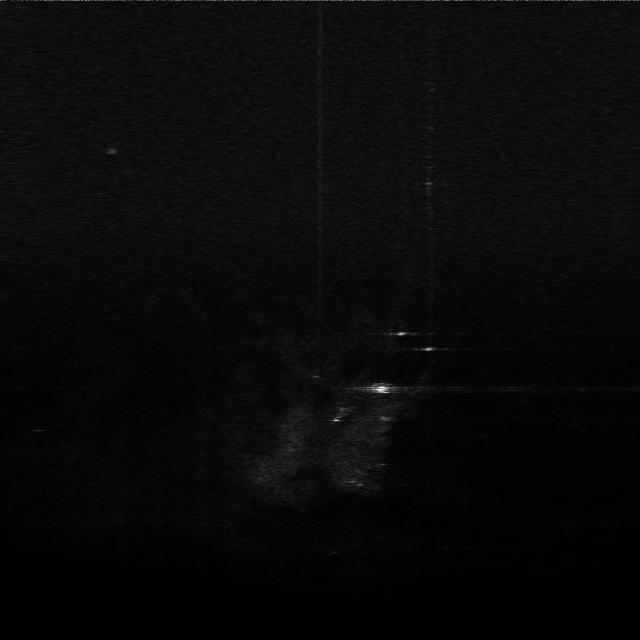rov: (369, 381, 397, 396)
